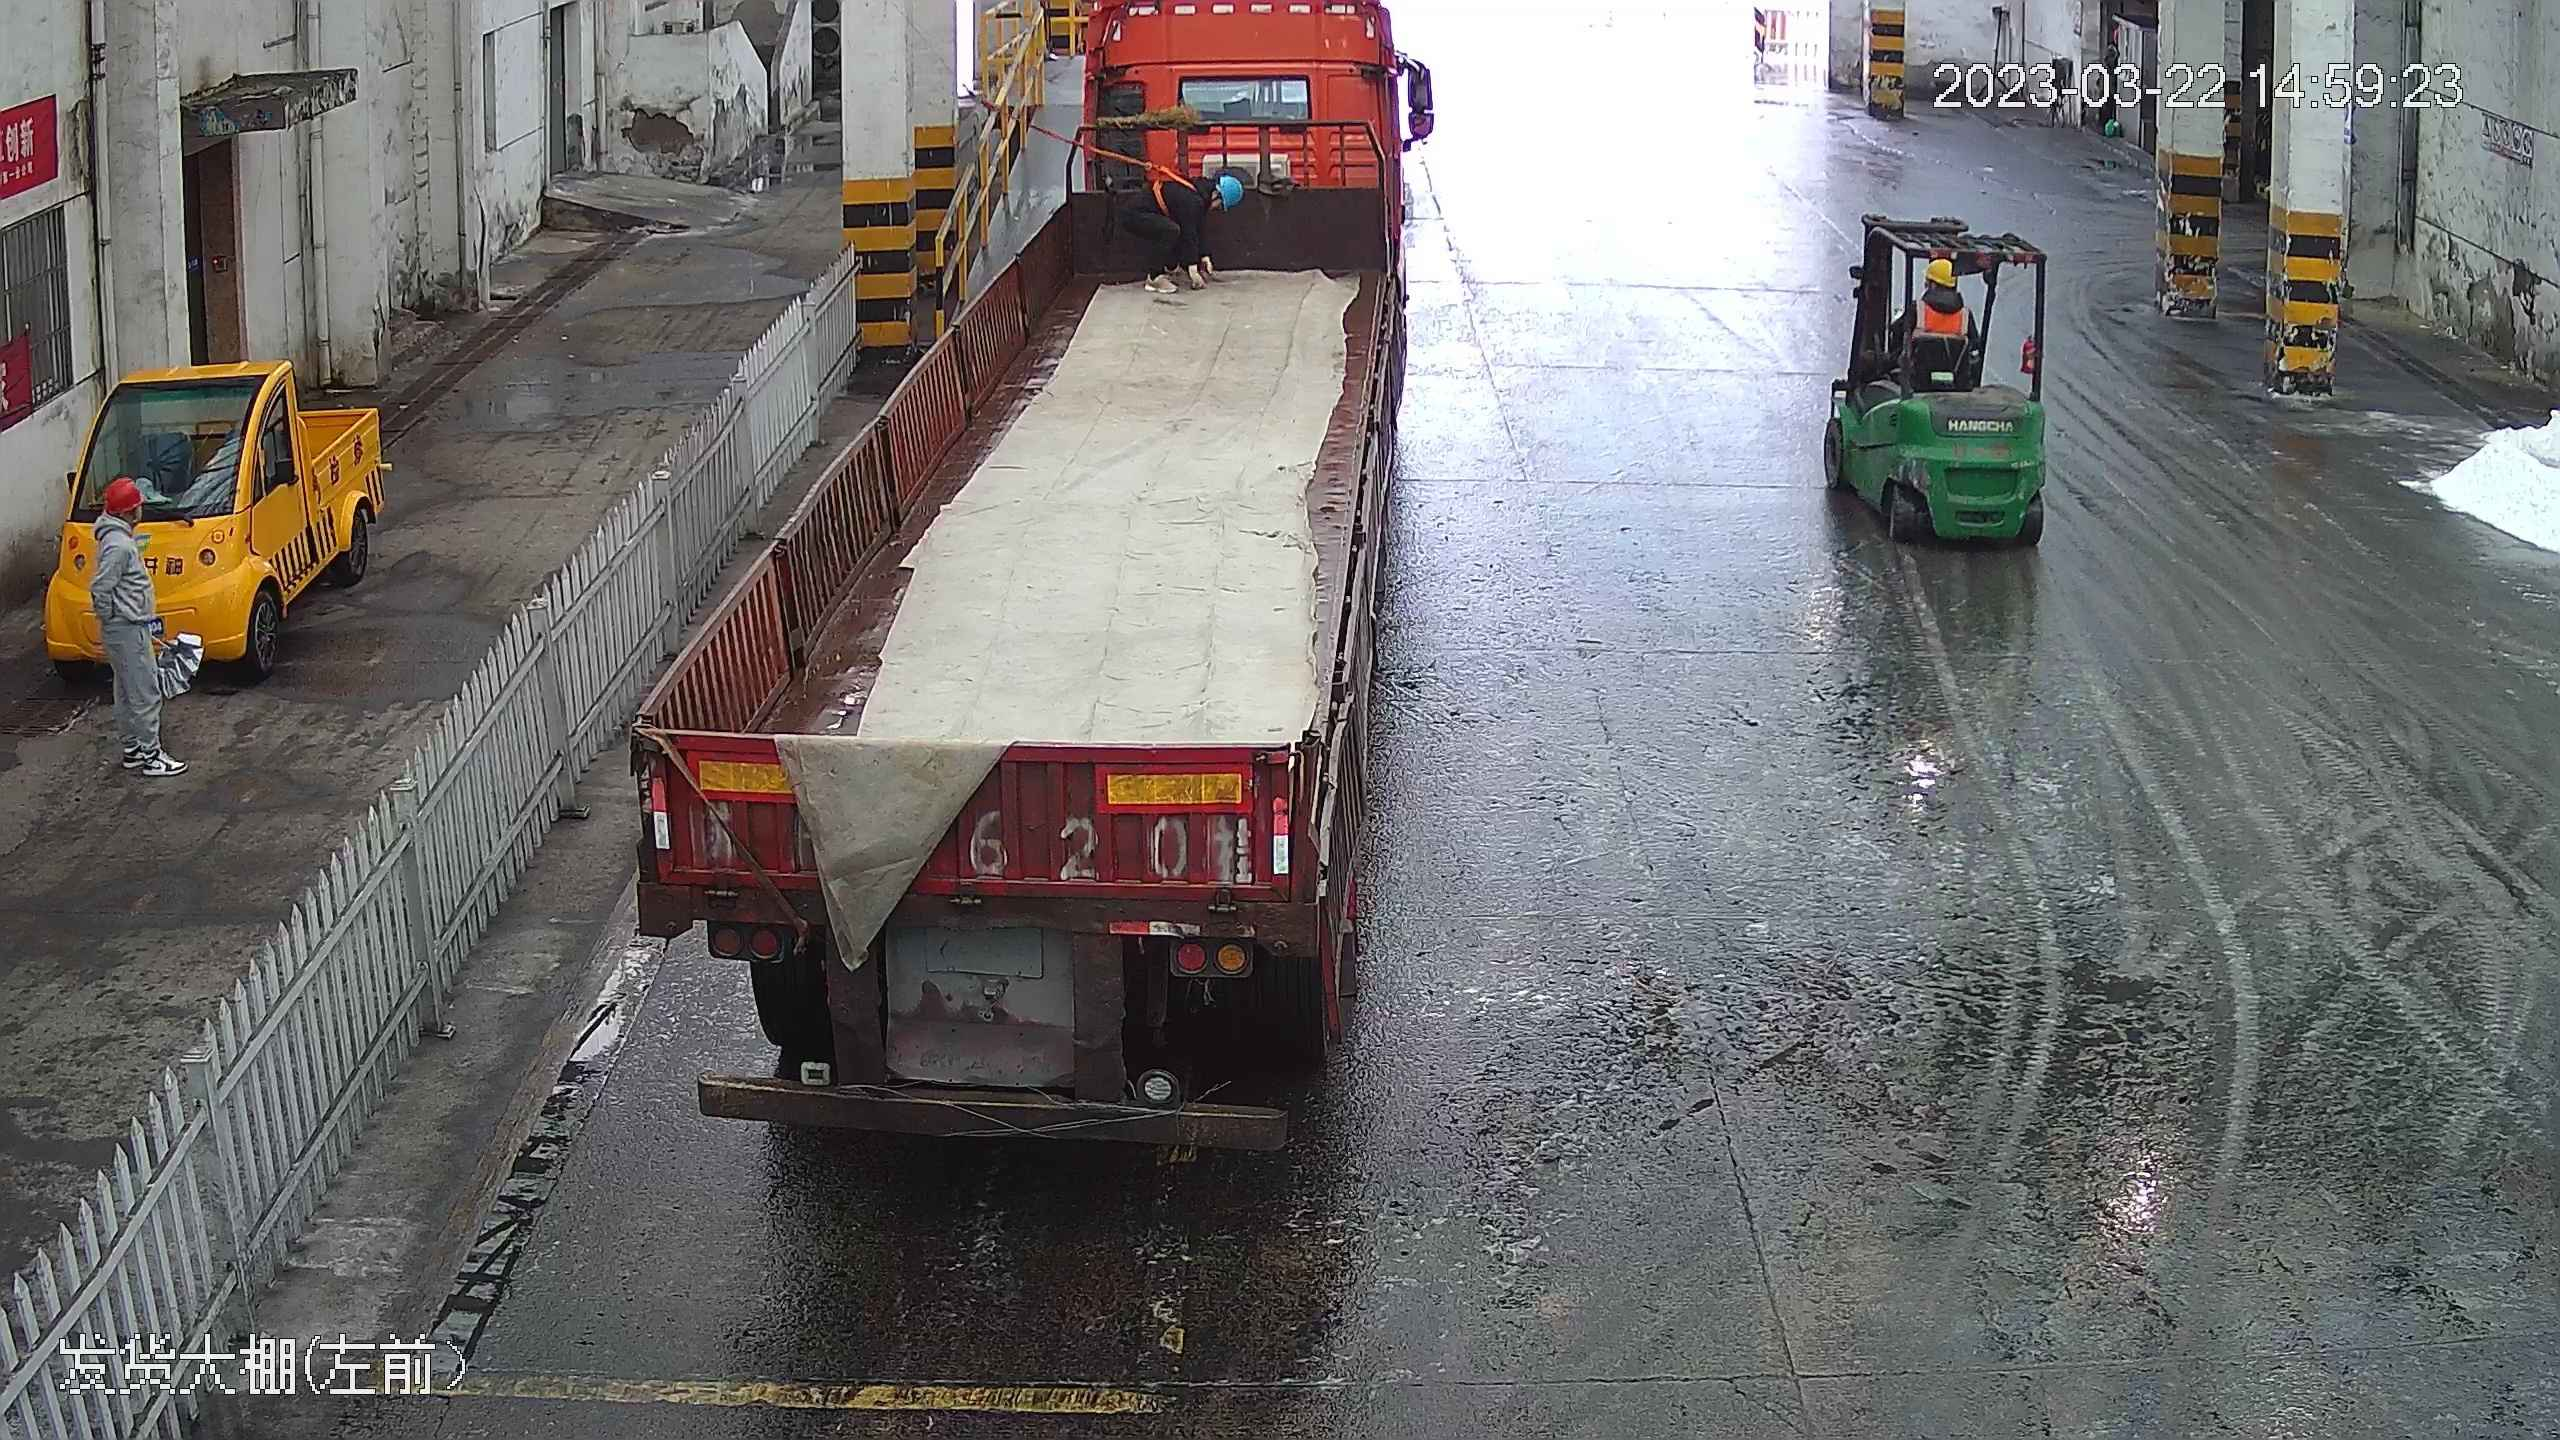belt: (1140, 154, 1199, 221)
head: (84, 476, 152, 566), (1154, 161, 1242, 220), (1908, 260, 1971, 328)
helmet: (100, 475, 145, 511), (1217, 173, 1245, 214), (1924, 259, 1957, 286)
people: (82, 482, 171, 775), (1130, 165, 1231, 291)
truck: (600, 1, 1450, 1142)
